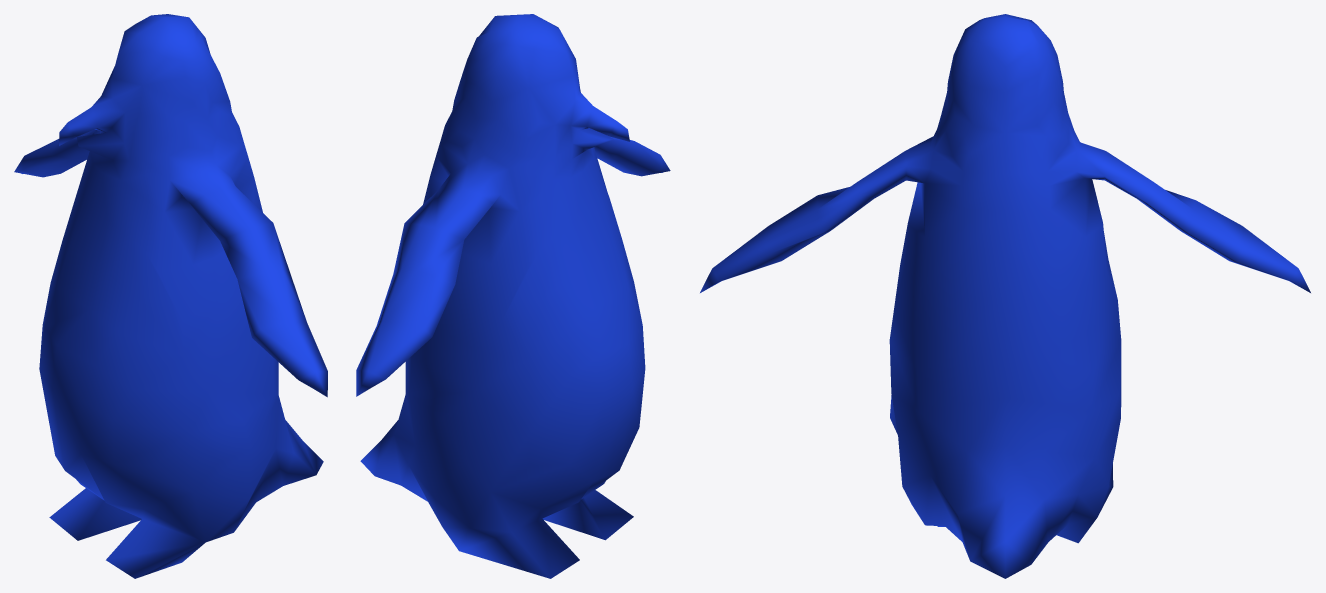
The model's file is govno.fbx.
3 renders of one model, left to right at view 1: azimuth 30°, elevation 25°; view 2: azimuth 150°, elevation 25°; view 3: azimuth 270°, elevation 25°, orthographic.
Visible parts, largest first — view 1: retopology; view 2: retopology; view 3: retopology.
Part boxes in pixels (x1,y1,x2,y2): retopology: [14, 14, 327, 578]; retopology: [356, 14, 670, 578]; retopology: [700, 14, 1310, 578].
Size of the model in its own units: 170 by 159 by 87.37.
